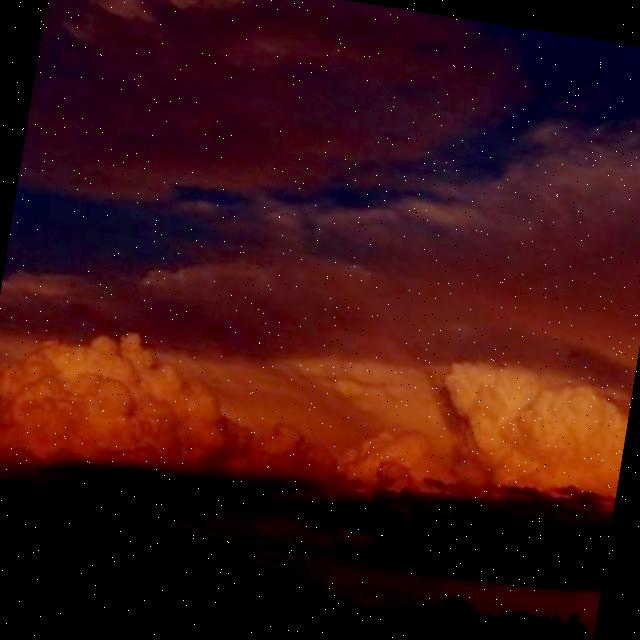Cu: (1, 9, 640, 517)
